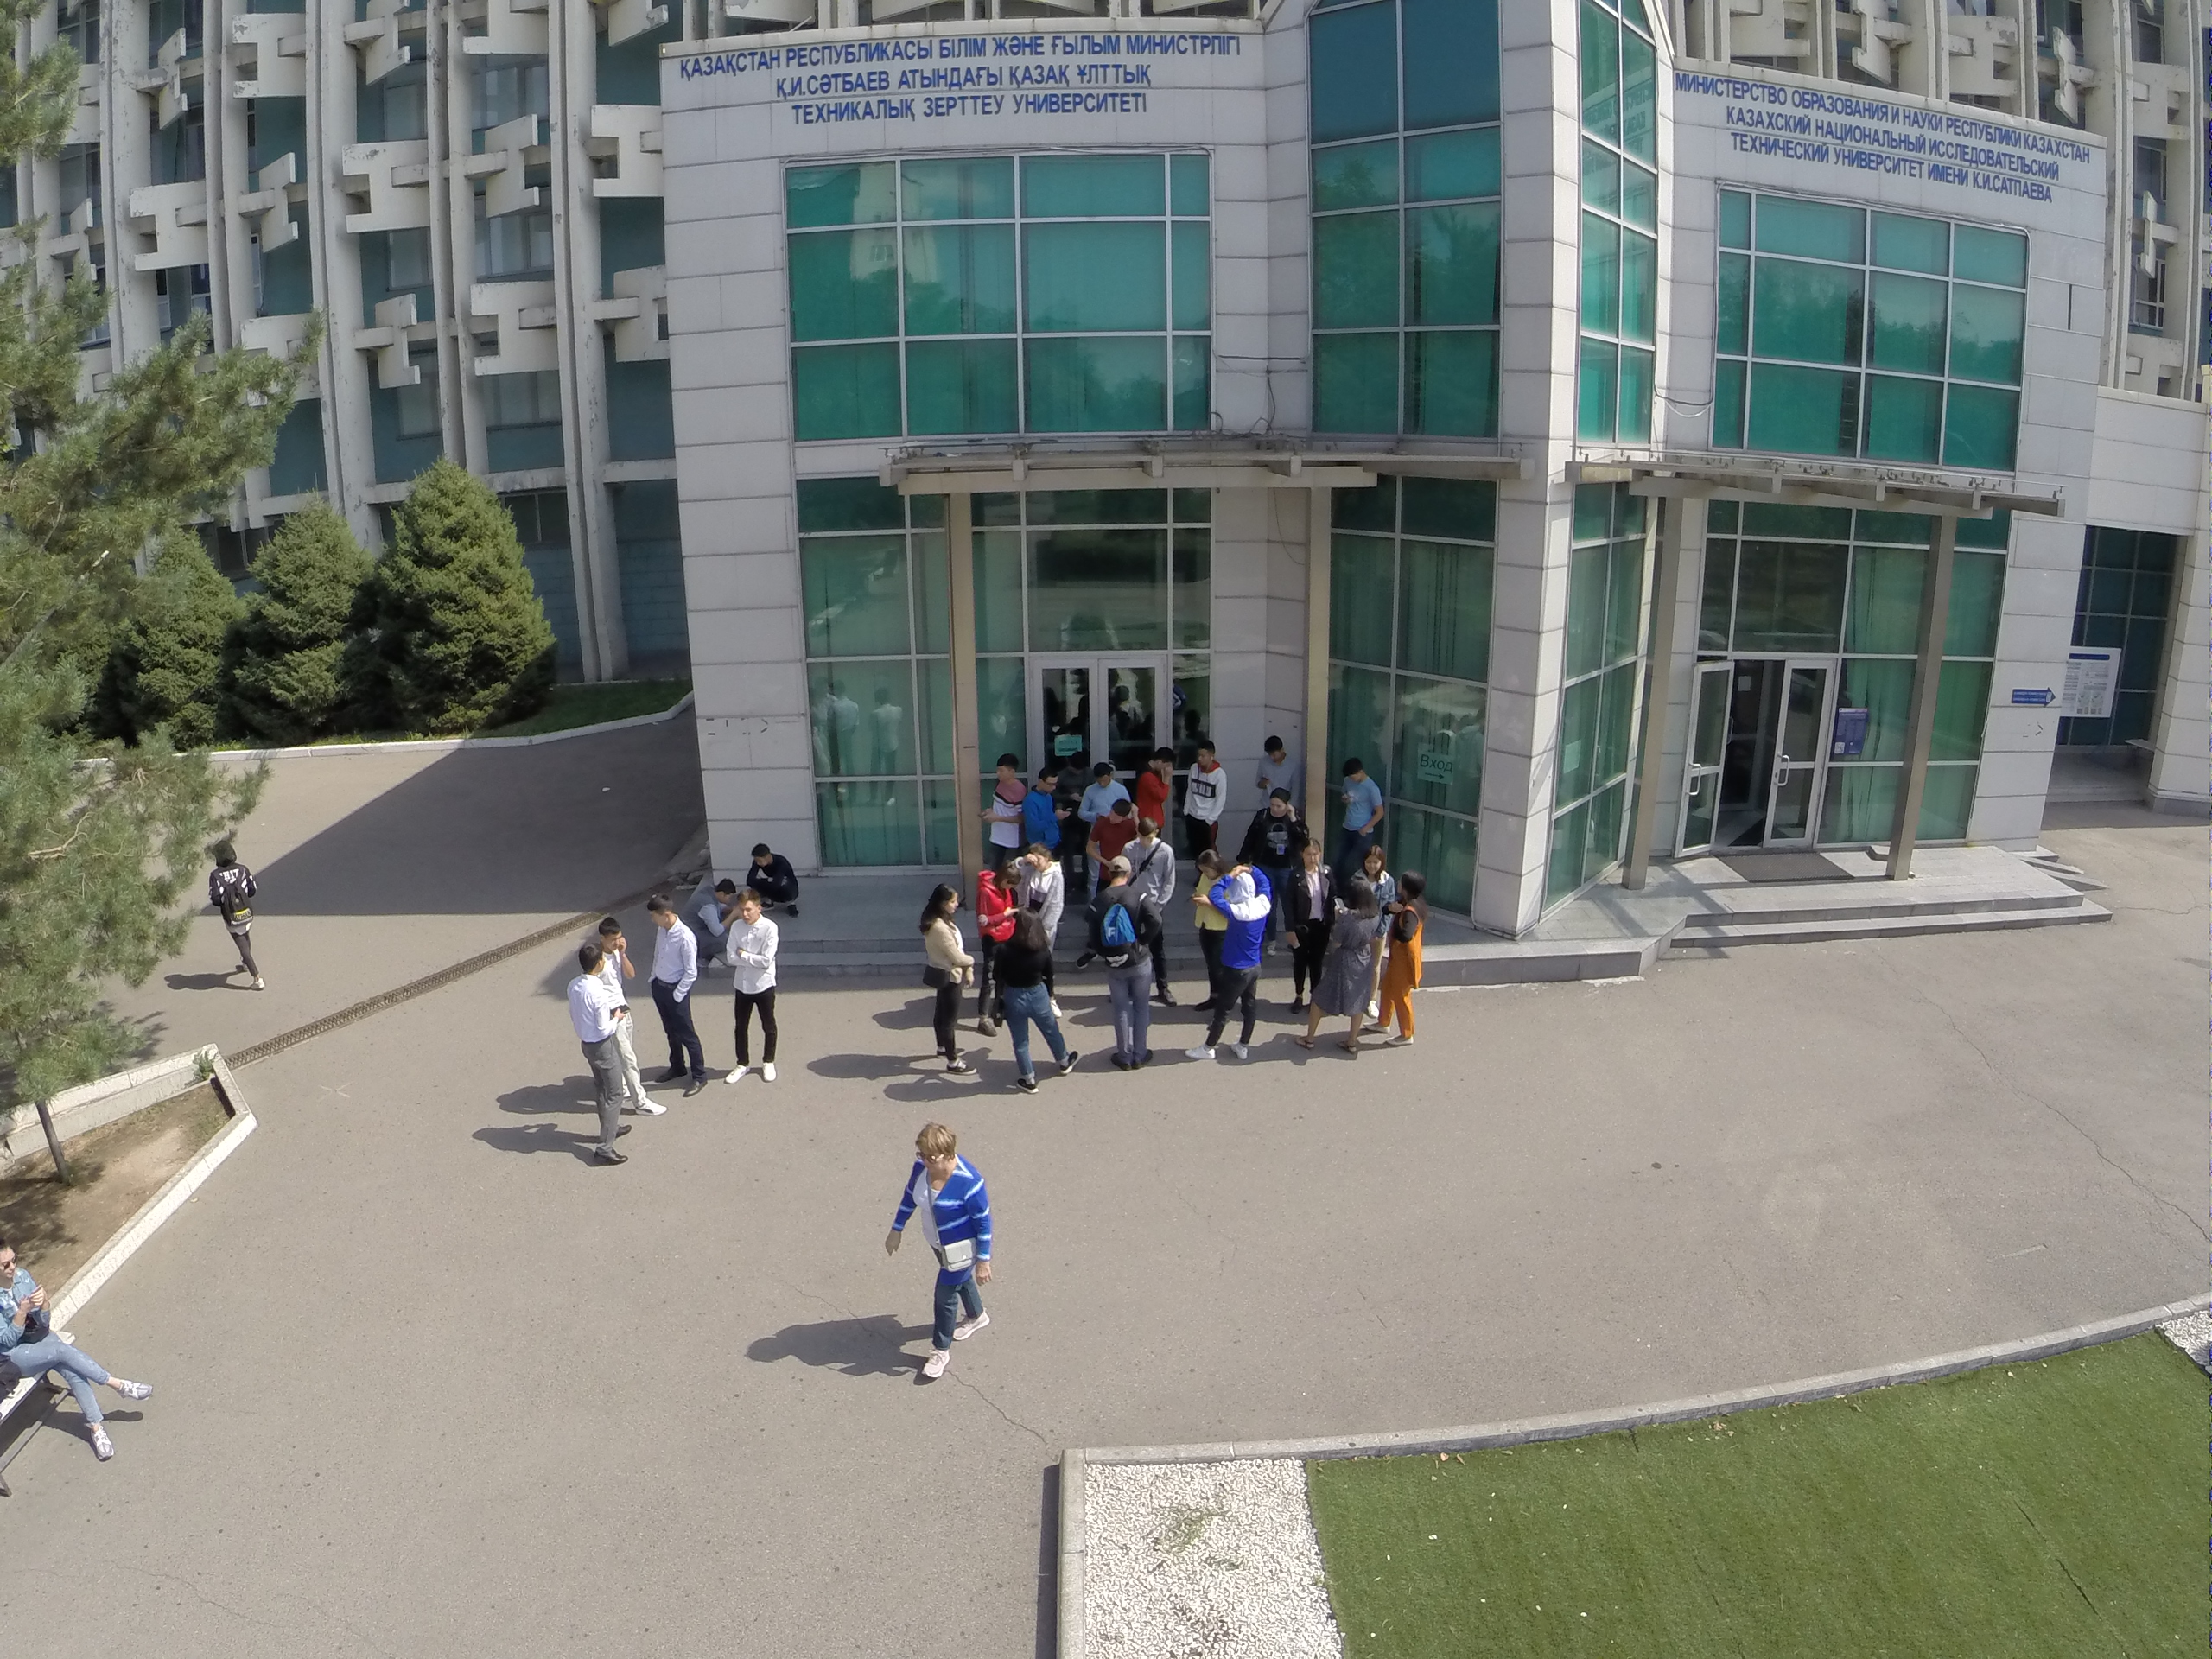person: (858, 1111, 999, 1392), (1, 1233, 155, 1463), (562, 942, 639, 1170), (638, 882, 714, 1097), (1193, 860, 1269, 1075), (1005, 904, 1081, 1095), (1095, 846, 1159, 1071), (1300, 874, 1378, 1052), (596, 914, 662, 1117), (721, 887, 788, 1088), (910, 887, 979, 1077), (198, 833, 270, 995), (1370, 868, 1427, 1050), (1283, 836, 1335, 1016), (1132, 809, 1175, 1007), (1008, 840, 1068, 950), (1333, 756, 1390, 860), (1248, 785, 1304, 880), (747, 836, 805, 919), (975, 749, 1021, 853), (683, 880, 738, 962), (1182, 738, 1224, 841), (975, 862, 1018, 958), (1192, 845, 1224, 958), (1252, 733, 1297, 800), (1027, 766, 1062, 849), (1091, 798, 1132, 868), (1137, 748, 1172, 814), (1061, 752, 1090, 821), (1086, 761, 1124, 807), (1357, 847, 1390, 892)
